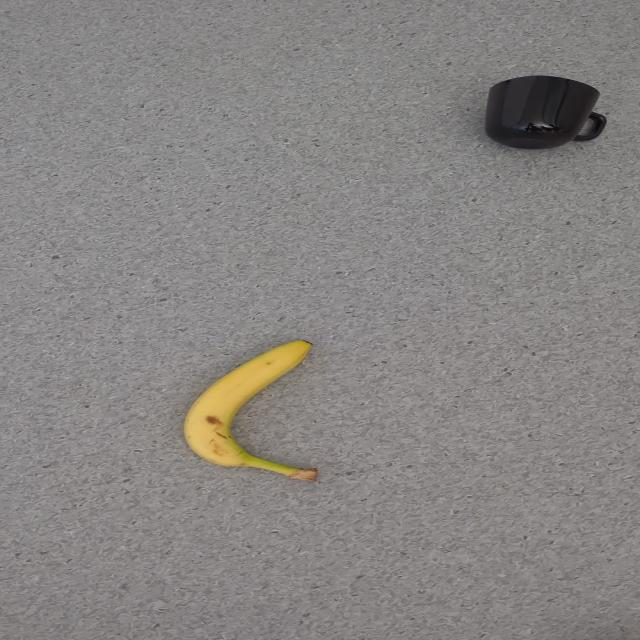banana: (182, 339, 318, 482)
mug: (483, 74, 607, 150)
